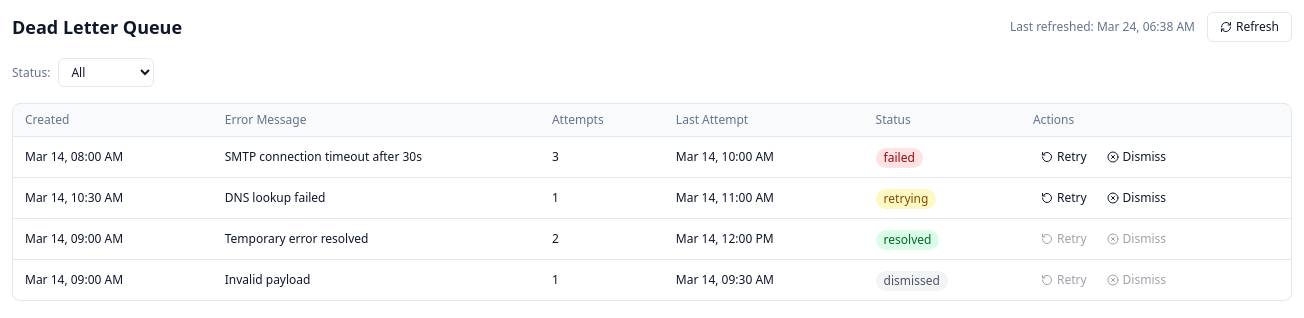
Test case: DLQMonitor › filters by status
The width and height of the screenshot is (1304, 318).
Select "Failed" in the dropdown with test id "dlq-status-filter" at (106, 72), box [58, 58, 154, 87]
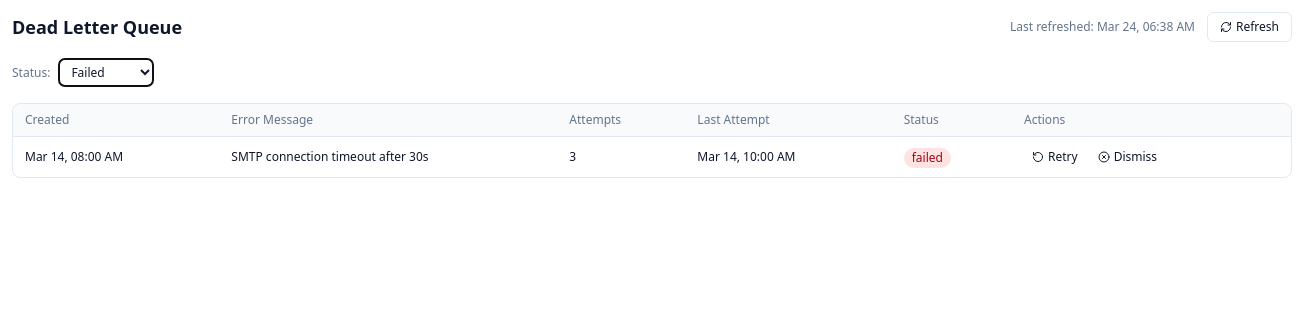
Expected: the row with test id "dlq-row-evt1" is shown, [13, 136, 1291, 177]
Expected: the row with test id "dlq-row-evt2" is gone
Expected: the row with test id "dlq-row-evt3" is gone
